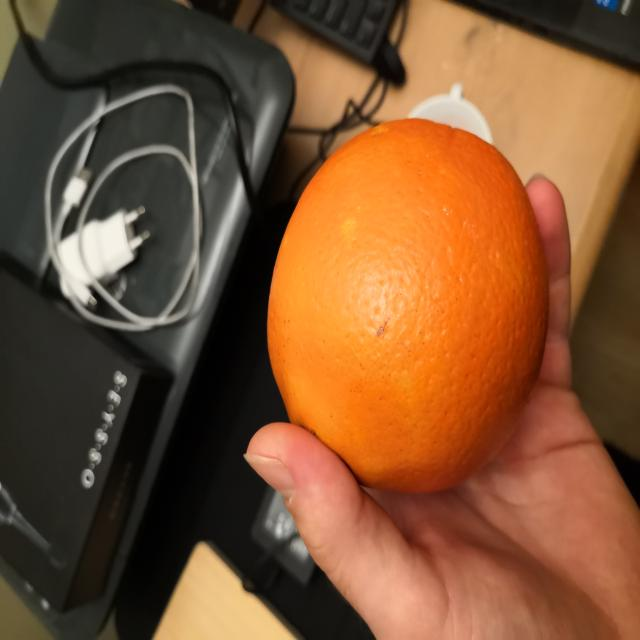orange: (268, 118, 549, 492)
